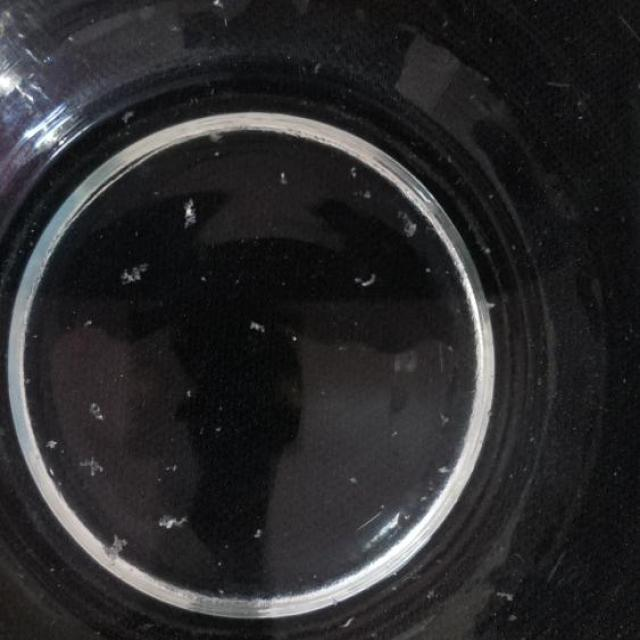fiber: (117, 257, 152, 282), (399, 208, 420, 249), (152, 511, 192, 532), (106, 537, 128, 575), (179, 198, 202, 233), (347, 268, 383, 288), (392, 348, 422, 372), (437, 451, 460, 480), (306, 54, 328, 80), (491, 584, 516, 604), (80, 454, 106, 473), (242, 320, 270, 336), (91, 400, 108, 424), (544, 77, 575, 90), (271, 170, 293, 188), (118, 110, 140, 126), (437, 408, 455, 426), (474, 300, 503, 308), (253, 521, 264, 542), (46, 438, 58, 448), (346, 619, 352, 632)
